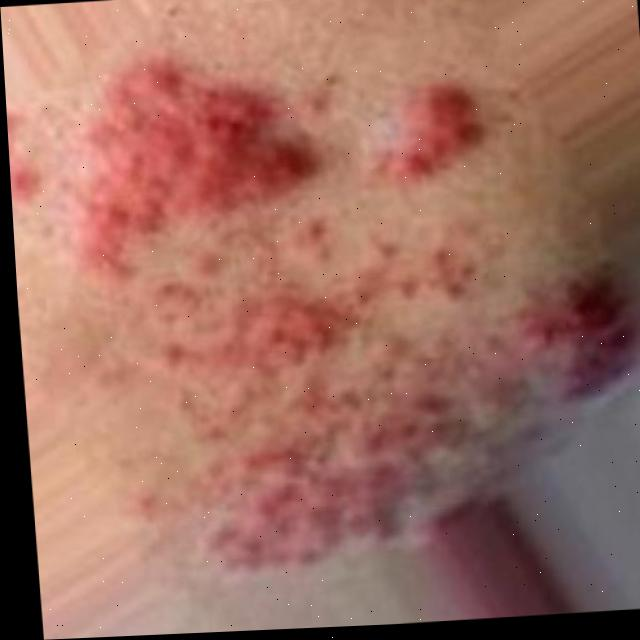Shingles: (4, 38, 634, 593)
